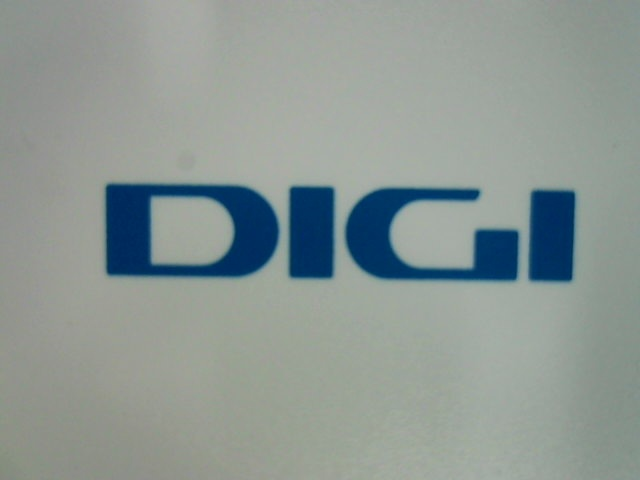BL_DIGI: (82, 159, 591, 298)
